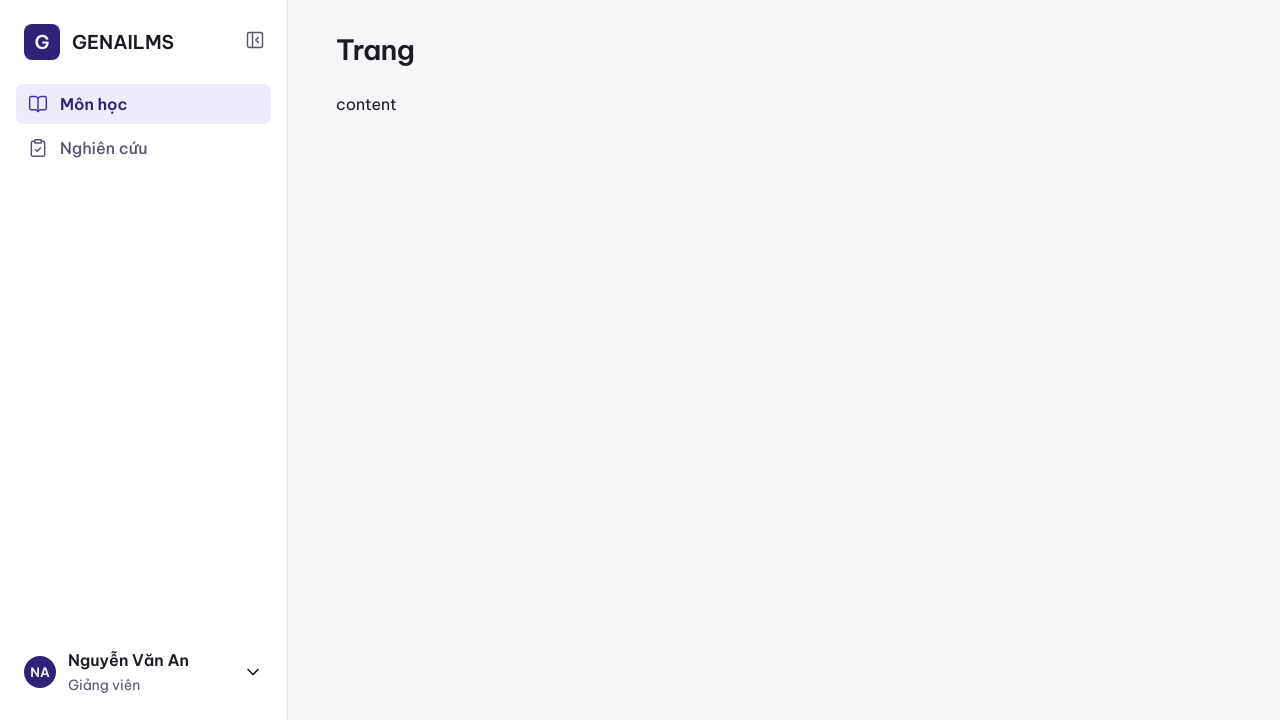
AppShell › requires confirmation before unlinking and notifies other Moodle views on success
The width and height of the screenshot is (1280, 720).
Click the button "NA Nguyễn Văn An Giảng viên" at (144, 672), box [16, 640, 271, 704]
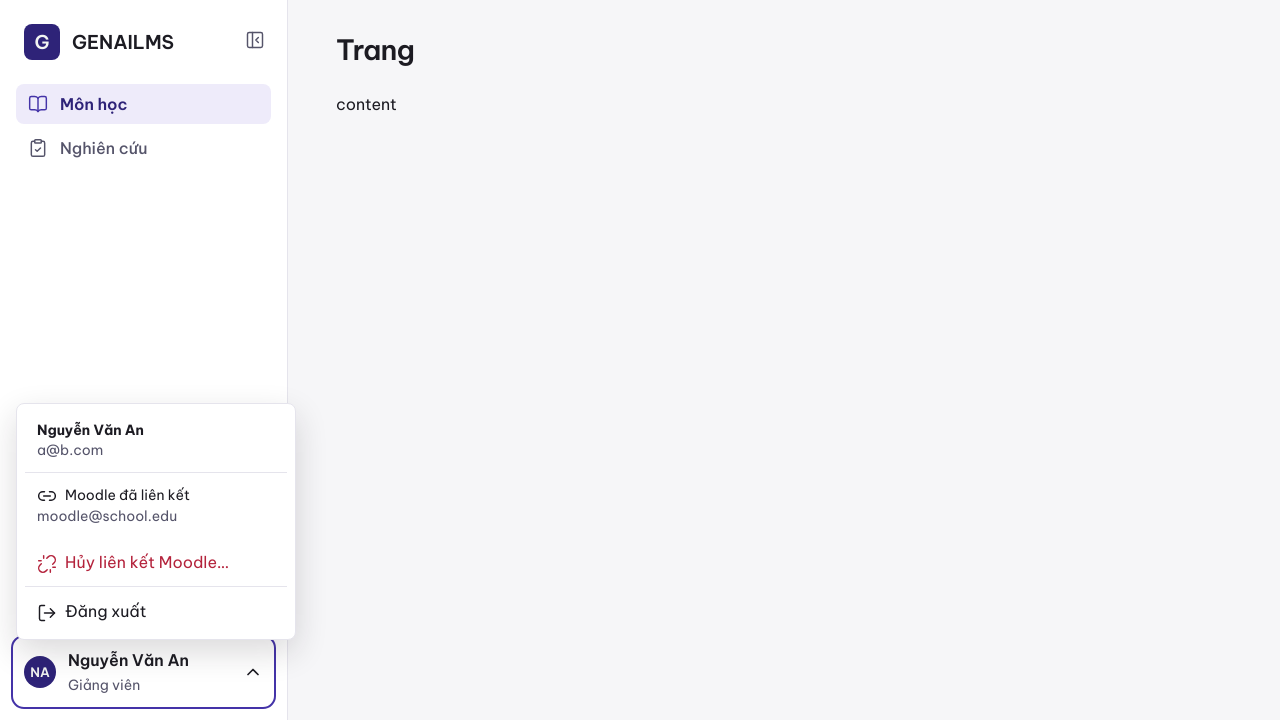
Click the button "Hủy liên kết Moodle…" at (156, 562), box [25, 542, 287, 582]
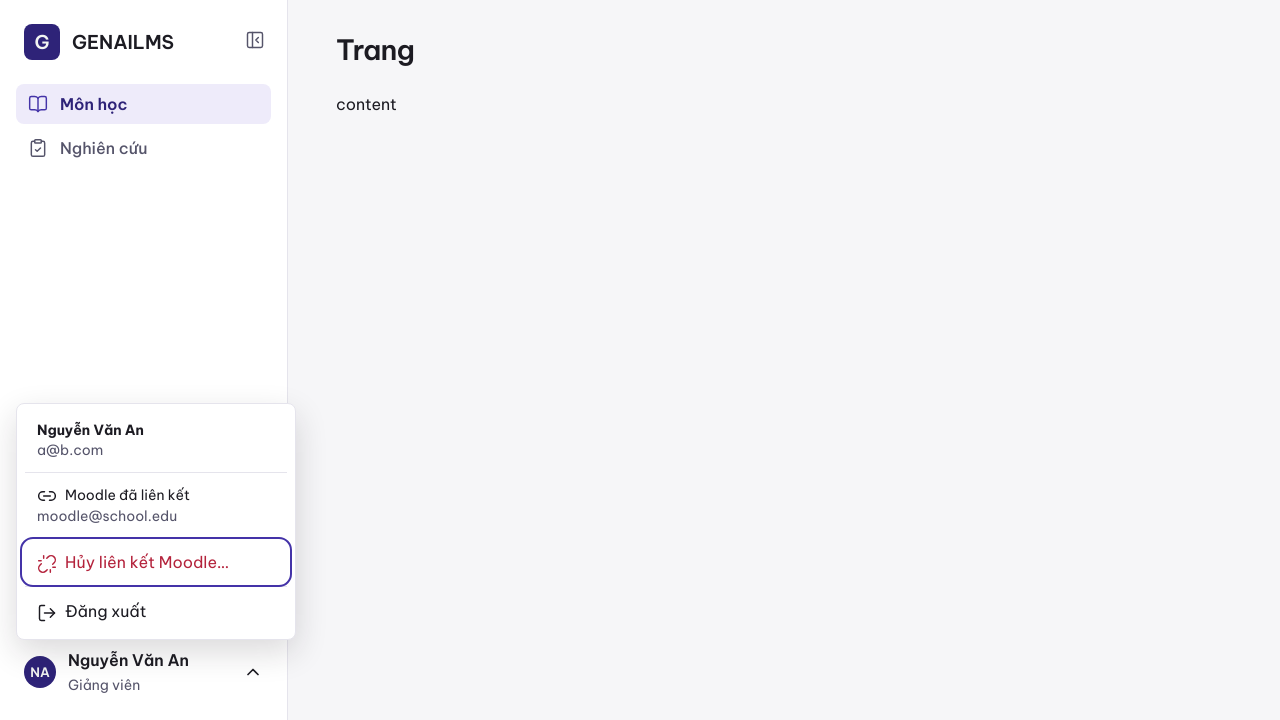
Click the button "Hủy liên kết Moodle…" at (156, 562), box [25, 542, 287, 582]
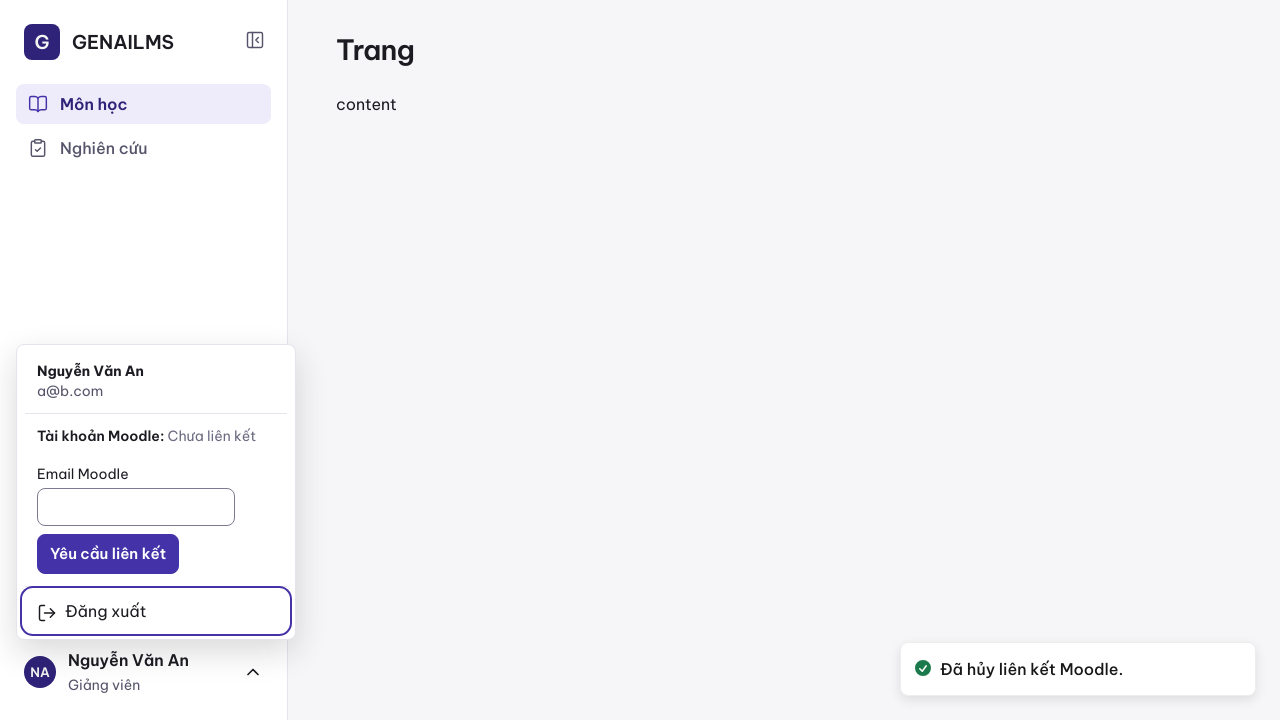
expect the button "Yêu cầu liên kết" is shown: met, box [37, 534, 179, 574]
Press Escape
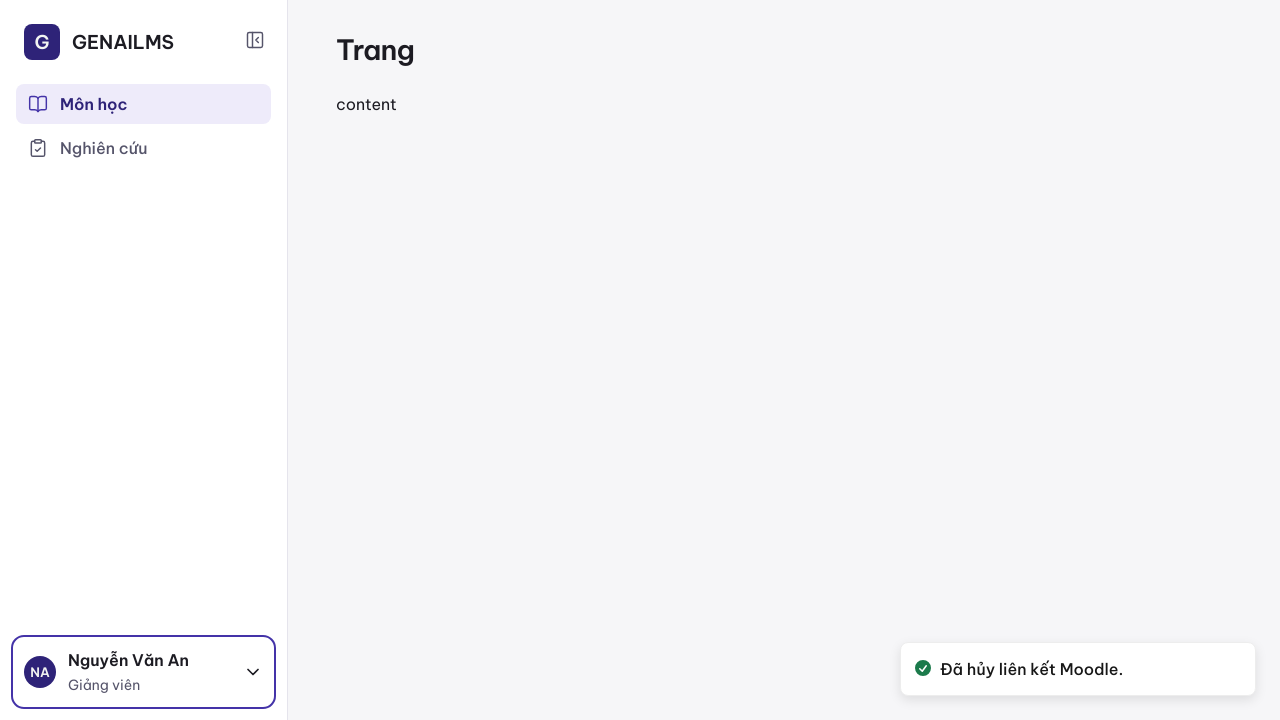
expect the text "Tài khoản" is gone: met
